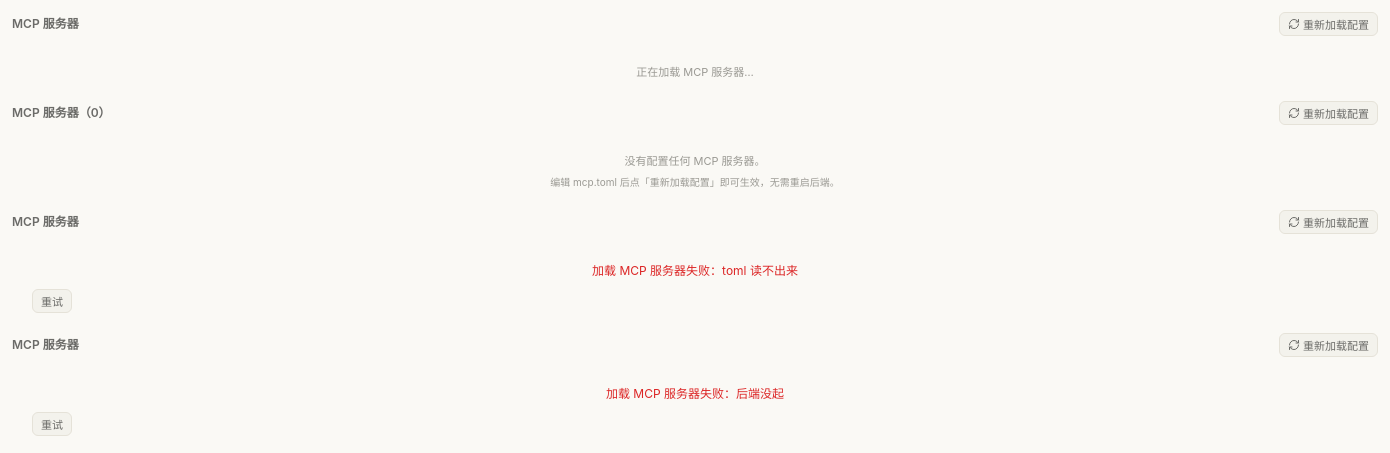
Test: McpTab 四态 › 失败后重试能恢复
This screenshot has width=1390, height=453.
Click the 2nd button "重试": {"x": 52, "y": 424} [32,412,72,436]
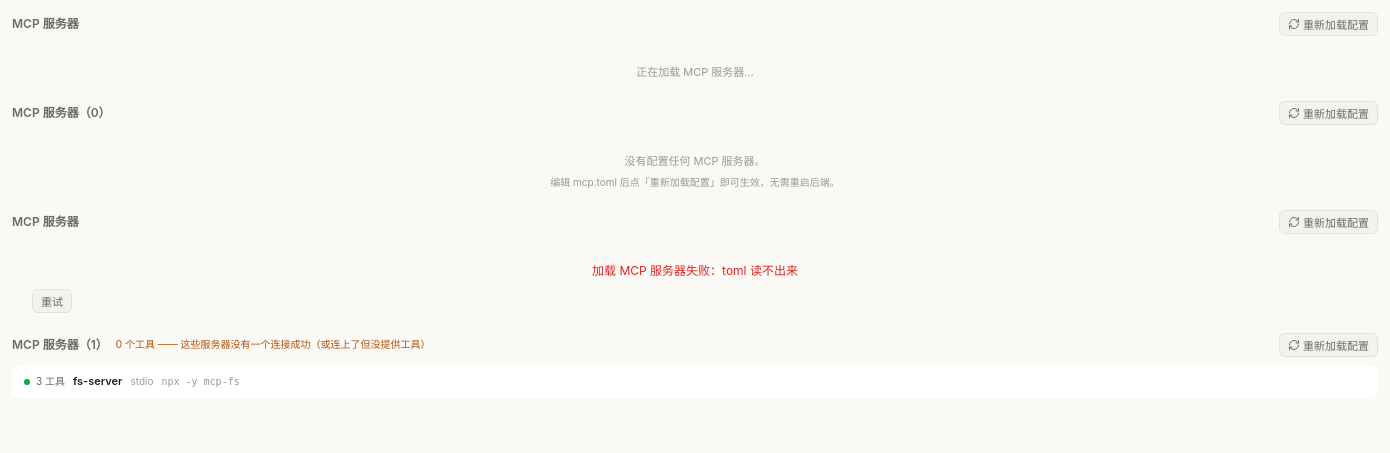
Check: the text "fs-server" is shown, box [73,373,122,390]
Check: the text "后端没起" is gone
